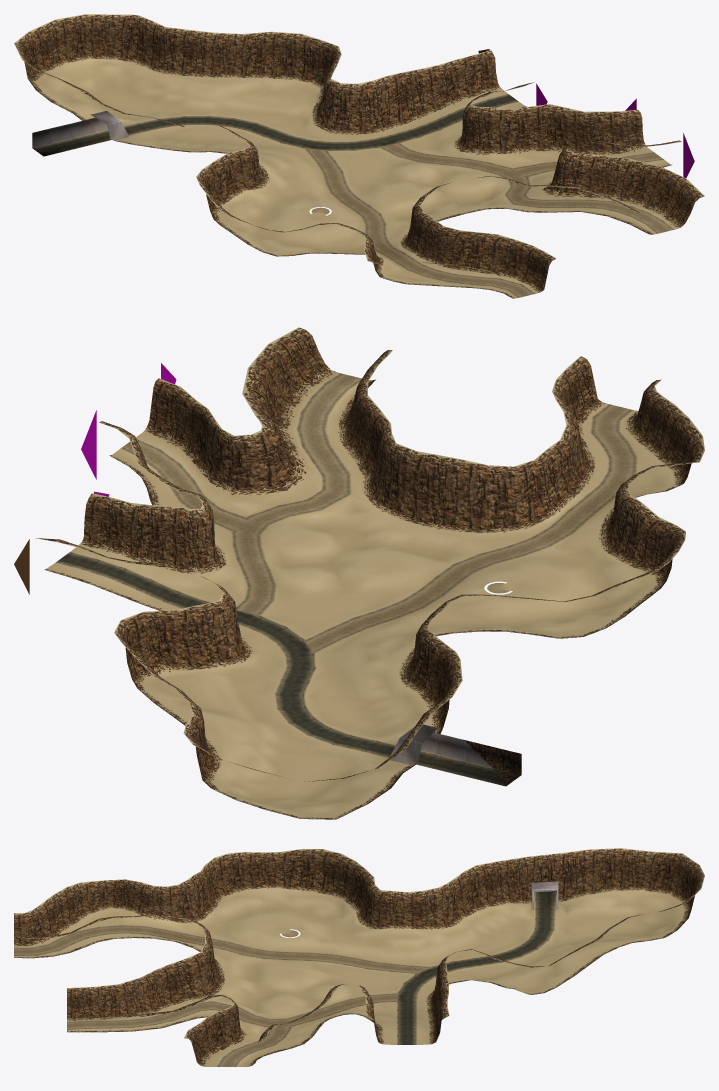
File: Mission8_Zone05.glb
3 renders of one model, top to bottom at view 1: azimuth 30°, elevation 25°; view 2: azimuth 150°, elevation 25°; view 3: azimuth 270°, elevation 25°, orthographic. The views are drawn at different scales.
Parts seen in each view (by area): view 1: MISSION8_ZONE05402, MISSION8_ZONE05208, MISSION8_ZONE05422, MISSION8_ZONE05226, MISSION8_ZONE05058, MISSION8_ZONE05423, MISSION8_ZONE05382, MISSION8_ZONE05418, MISSION8_ZONE05370, MISSION8_ZONE05393, MISSION8_ZONE05299, MISSION8_ZONE05285 (+49 smaller); view 2: MISSION8_ZONE05079, MISSION8_ZONE05099, MISSION8_ZONE05100, MISSION8_ZONE05242, MISSION8_ZONE05101, MISSION8_ZONE05127, MISSION8_ZONE05241, MISSION8_ZONE05102, MISSION8_ZONE05328, MISSION8_ZONE05029, MISSION8_ZONE05316, MISSION8_ZONE05340 (+36 smaller); view 3: MISSION8_ZONE05372, MISSION8_ZONE05384, MISSION8_ZONE05412, MISSION8_ZONE05330, MISSION8_ZONE05193, MISSION8_ZONE05082, MISSION8_ZONE05174, MISSION8_ZONE05276, MISSION8_ZONE05318, MISSION8_ZONE05035, MISSION8_ZONE05308, MISSION8_ZONE05132 (+39 smaller).
Part boxes in pixels (x1,y1,x2,y2): MISSION8_ZONE05402: (161,29,208,77); MISSION8_ZONE05208: (483,108,514,161); MISSION8_ZONE05422: (62,19,117,68); MISSION8_ZONE05226: (453,104,486,157); MISSION8_ZONE05058: (614,163,655,203); MISSION8_ZONE05423: (86,14,135,60); MISSION8_ZONE05382: (238,35,298,78); MISSION8_ZONE05418: (117,15,163,68); MISSION8_ZONE05370: (268,38,317,83); MISSION8_ZONE05393: (208,32,268,71); MISSION8_ZONE05299: (313,92,356,135); MISSION8_ZONE05285: (392,78,428,129); MISSION8_ZONE05079: (490,466,546,533); MISSION8_ZONE05099: (453,464,494,541); MISSION8_ZONE05100: (429,455,462,534); MISSION8_ZONE05242: (146,506,194,573); MISSION8_ZONE05101: (400,451,438,527); MISSION8_ZONE05127: (214,431,265,495); MISSION8_ZONE05241: (183,509,220,584); MISSION8_ZONE05102: (375,447,416,519); MISSION8_ZONE05328: (175,605,211,668); MISSION8_ZONE05029: (268,327,324,379); MISSION8_ZONE05316: (201,593,254,669); MISSION8_ZONE05340: (143,613,186,681); MISSION8_ZONE05372: (559,849,590,896); MISSION8_ZONE05384: (587,849,618,893); MISSION8_ZONE05412: (644,851,682,892); MISSION8_ZONE05330: (501,859,530,904); MISSION8_ZONE05193: (299,849,338,893); MISSION8_ZONE05082: (177,953,212,1000); MISSION8_ZONE05174: (279,849,318,892); MISSION8_ZONE05276: (407,888,442,927); MISSION8_ZONE05318: (476,861,507,902); MISSION8_ZONE05035: (93,984,126,1020); MISSION8_ZONE05308: (454,865,488,912); MISSION8_ZONE05132: (245,852,278,889).
Bounding box in the file's own units: 184 × 21.1 × 260.
Materials: 12 (11 with a texture image).
